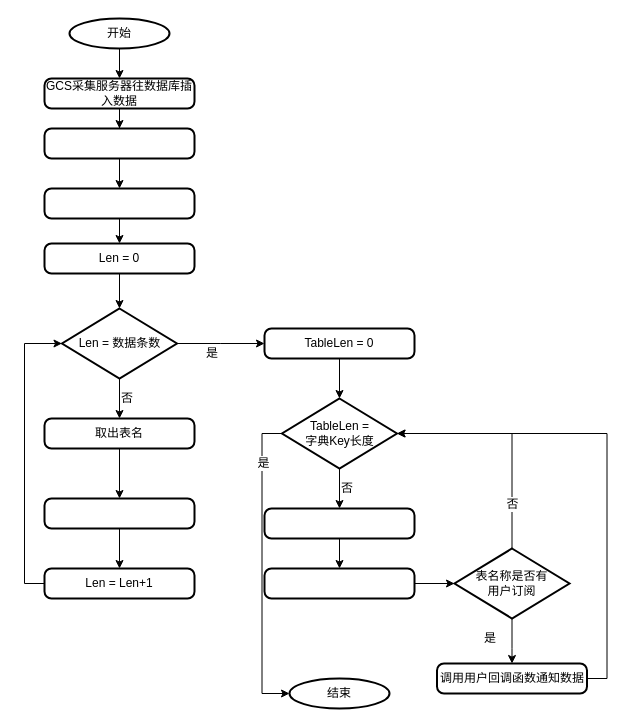
The diagram is 633 pixels wide and 726 high, and some of its shapes have lost their labels. Each missing label, with the centre of its shape:
TableLen = TableLen+1: (339,583)
根据TableLen取出字典里的数据: (339,523)
根据表名称将数据添加进字典: (119,513)
通知到Canal: (119,143)
通知到连接上Canal的客户端库: (119,203)
